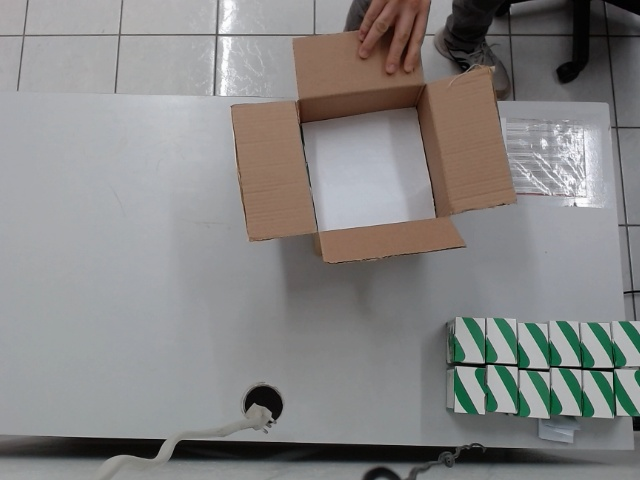caixa_principal: (226, 23, 521, 266)
